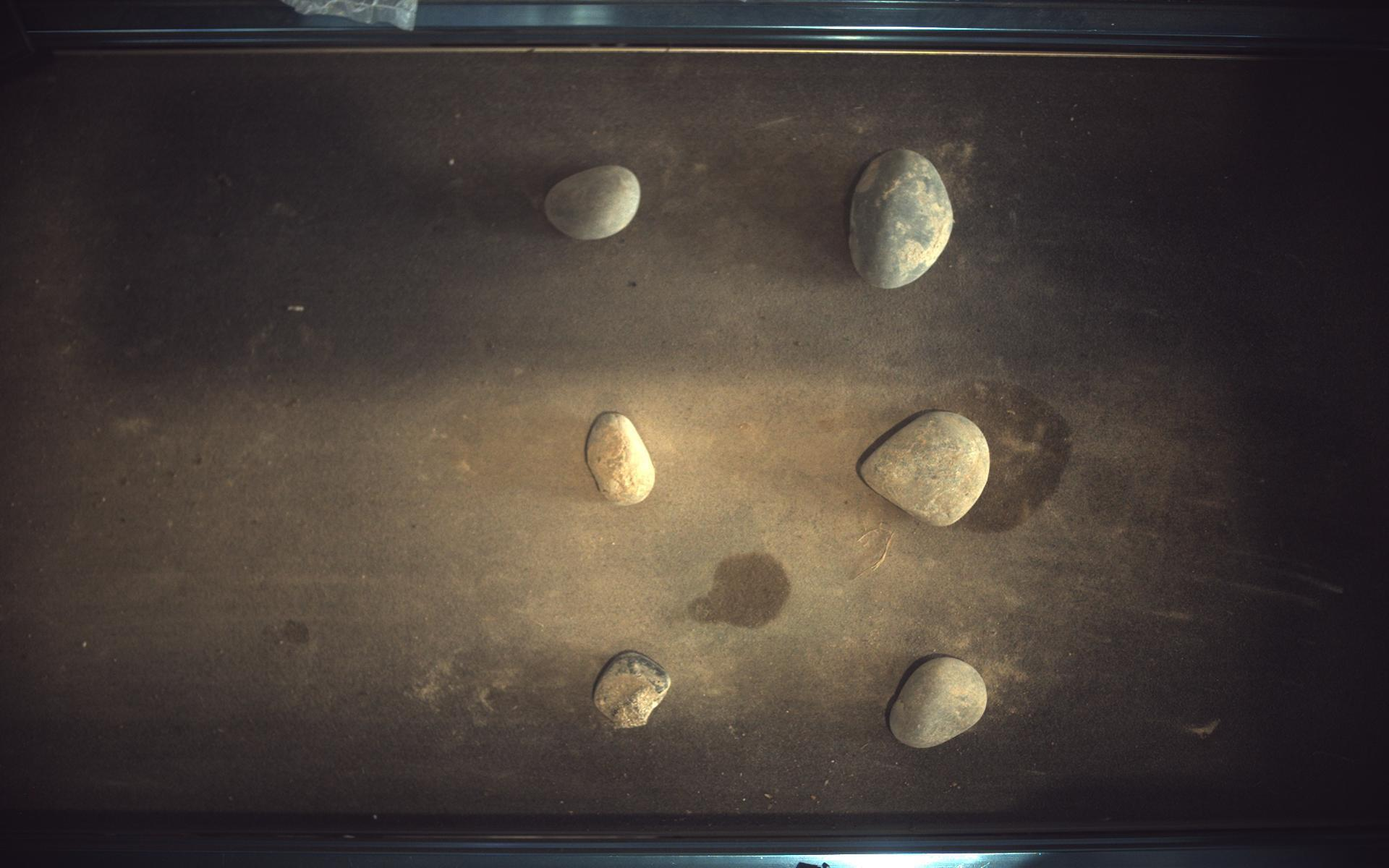stone: (862, 411, 992, 527), (851, 148, 956, 289), (891, 658, 990, 749), (545, 164, 641, 239), (586, 412, 656, 506), (593, 652, 672, 730)
